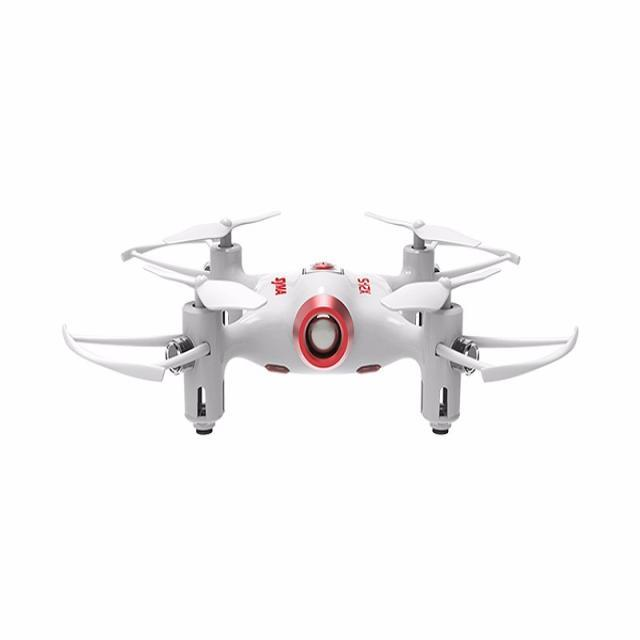drone: (72, 209, 592, 442)
